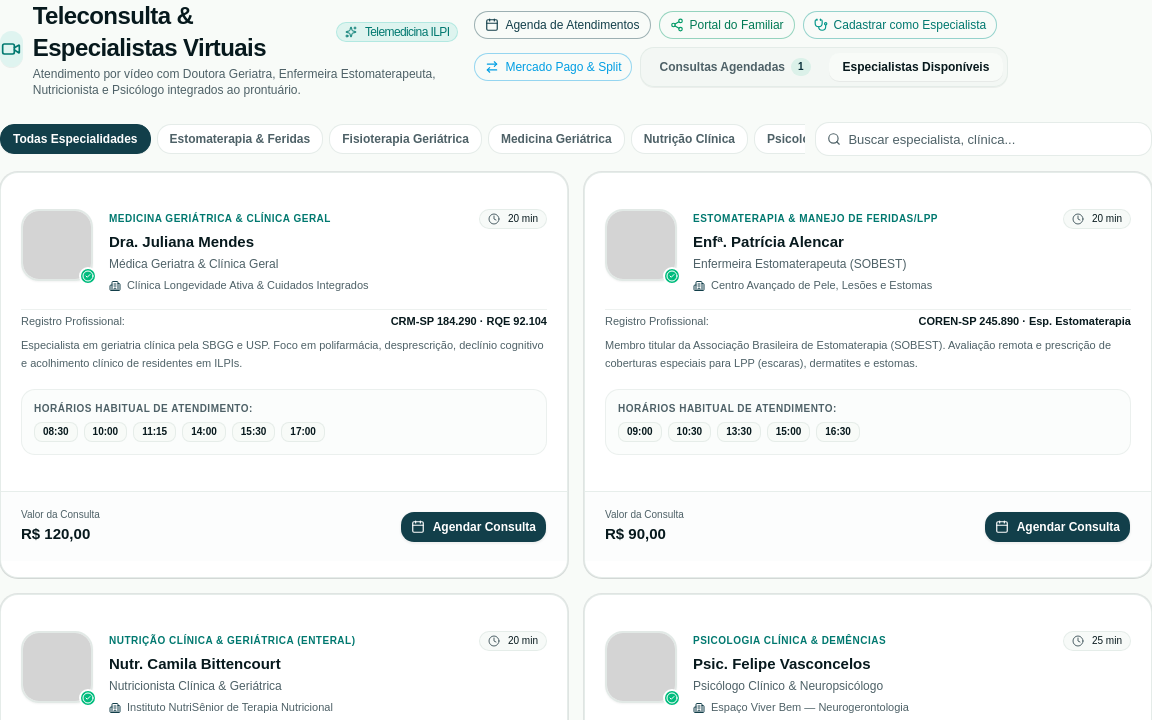
Scenario: Teleconsulta Page › abre o fluxo de agendamento, seleciona residente e horários do mês
Click the button "Agendar Consulta" in the row of "R$ 120,00". click: (473, 527)
box: [400,511,547,543]
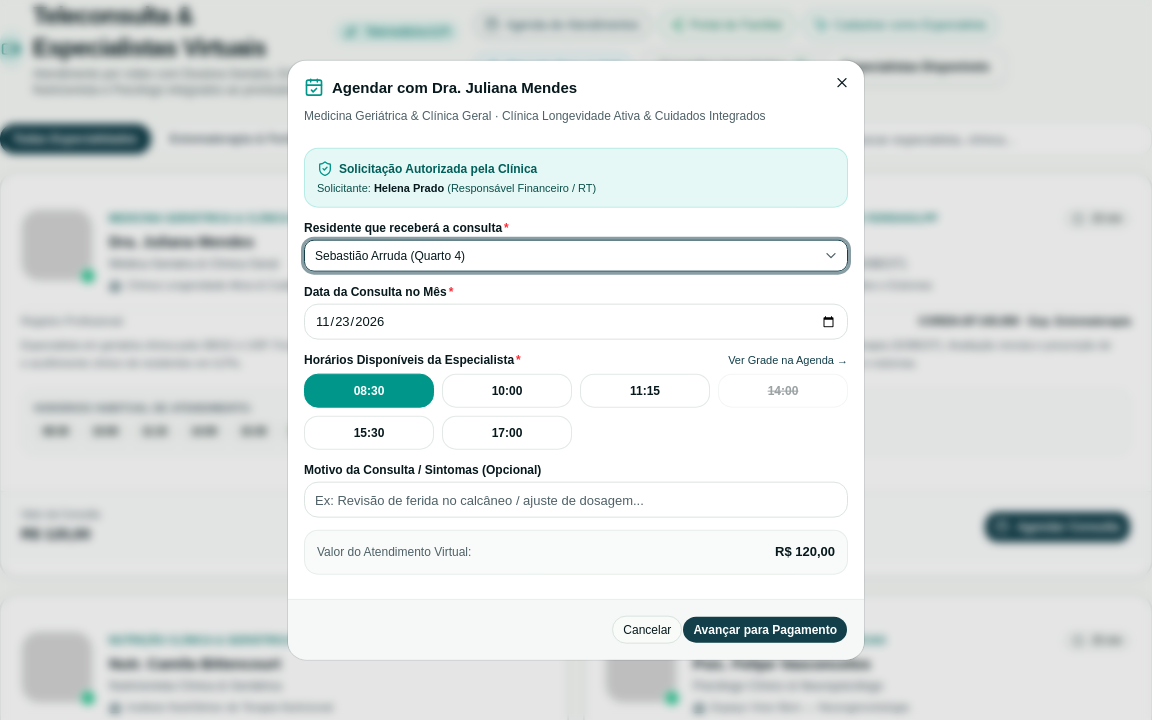
Expected: the heading "Agendar com Dra. Juliana Mendes" is shown, [332,77,577,99]
Expected: the text "Horários Disponíveis da Especialista *" is shown, [304,352,521,368]
Expected: the button "Avançar para Pagamento" is shown, [682,615,848,643]
